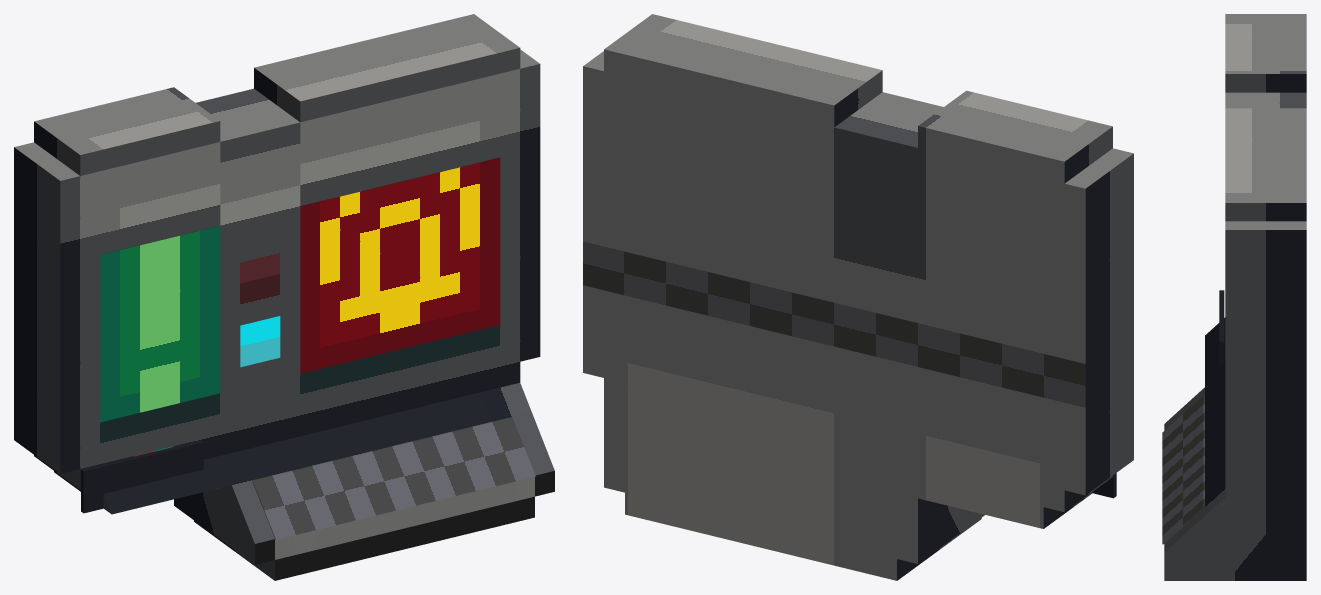
File: requests_console_emergency.glb
3 views of the same model, side by side, from view 1: azimuth 30°, elevation 25°; view 2: azimuth 150°, elevation 25°; view 3: azimuth 270°, elevation 25° (orthographic). The views are drawn at different scales.
Visible parts, largest first — view 1: Continuous_Housing, Message_Overlay, Status_Overlay, Keyboard_Panel, Service_Panel; view 2: Continuous_Housing; view 3: Continuous_Housing, Keyboard_Panel, Service_Panel.
Part boxes in pixels (x1=…): Continuous_Housing: x1=14, y1=14, x2=554, y2=580; Message_Overlay: x1=300, y1=157, x2=500, y2=373; Status_Overlay: x1=100, y1=226, x2=280, y2=422; Keyboard_Panel: x1=252, y1=417, x2=535, y2=539; Service_Panel: x1=81, y1=440, x2=203, y2=513; Continuous_Housing: x1=583, y1=14, x2=1133, y2=580; Continuous_Housing: x1=1164, y1=14, x2=1306, y2=580; Keyboard_Panel: x1=1162, y1=395, x2=1204, y2=544; Service_Panel: x1=1219, y1=290, x2=1224, y2=364.
Bounding box in the file's own units: 0.675 × 0.5906 × 0.1996.
3 materials, 3 textured.
